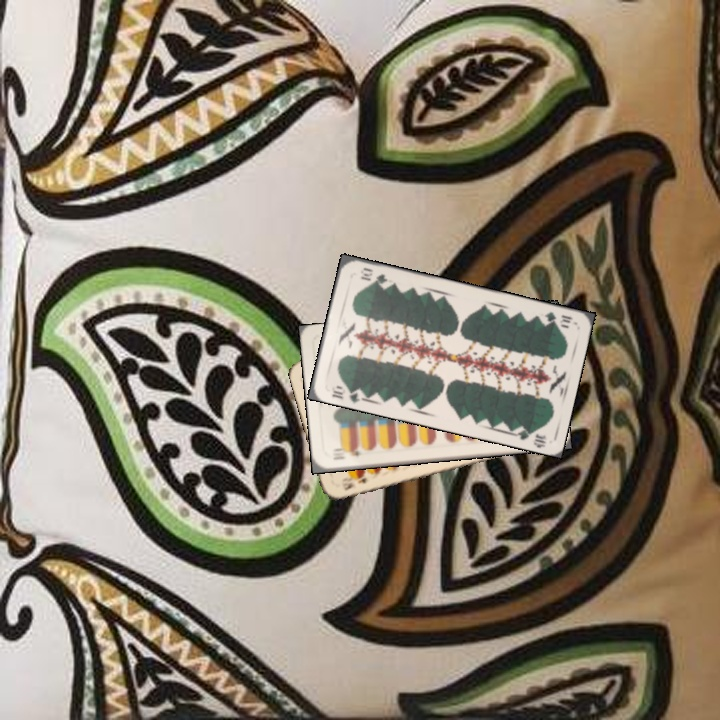E10: (338, 471, 369, 493), (329, 445, 362, 462)
G10: (328, 381, 366, 405), (541, 308, 576, 331)
